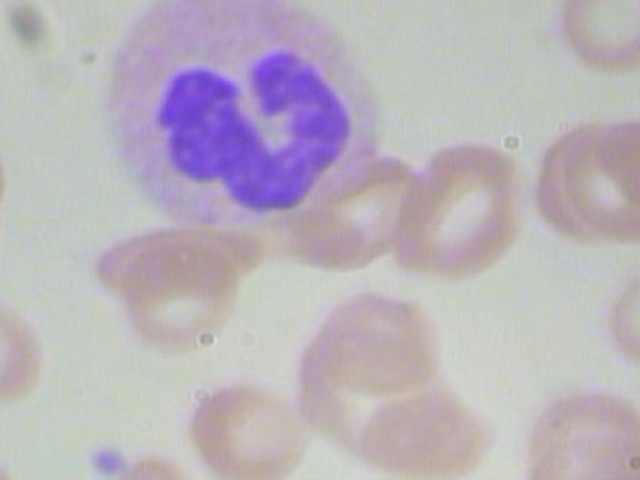Platelets: (69, 442, 135, 480)
RBC: (386, 138, 531, 277), (100, 219, 245, 358), (286, 156, 431, 295), (303, 264, 448, 403), (174, 373, 318, 480), (342, 376, 489, 480), (525, 381, 640, 480), (530, 0, 640, 75), (0, 272, 52, 411), (588, 99, 640, 232), (601, 253, 640, 370), (0, 99, 20, 237)
WBC: (88, 0, 405, 229)
